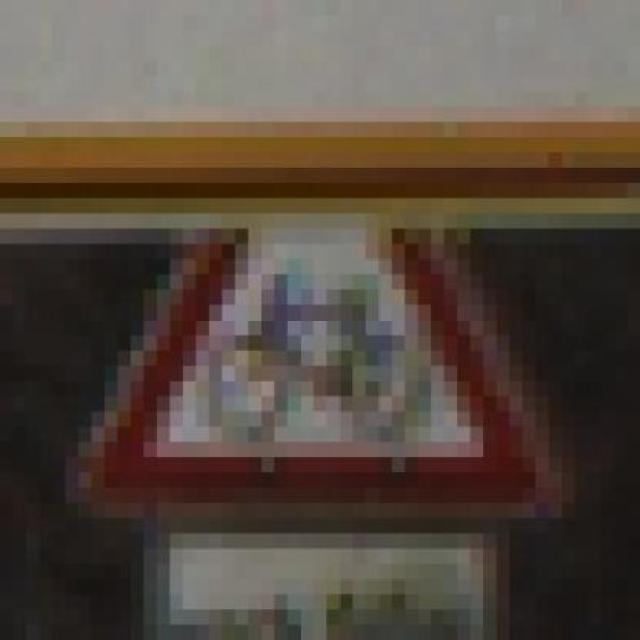CYCLE ROUTE AHEAD WARNING: (39, 214, 601, 503)
